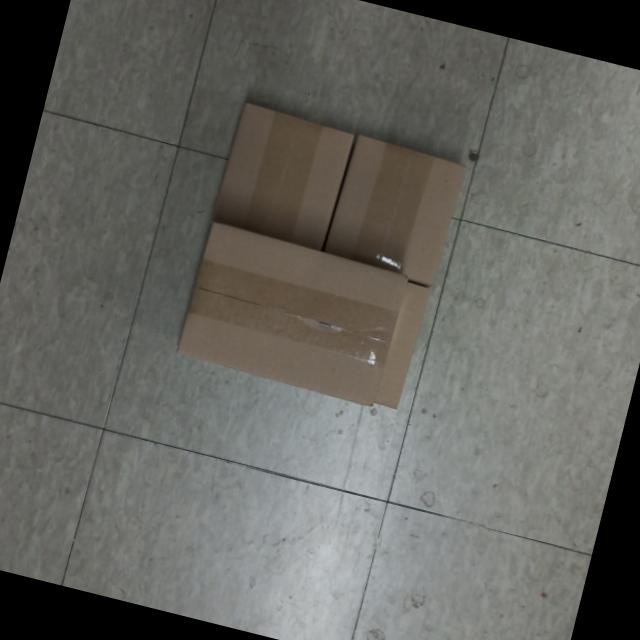box: (164, 212, 419, 416), (315, 123, 477, 290), (202, 92, 362, 259)
